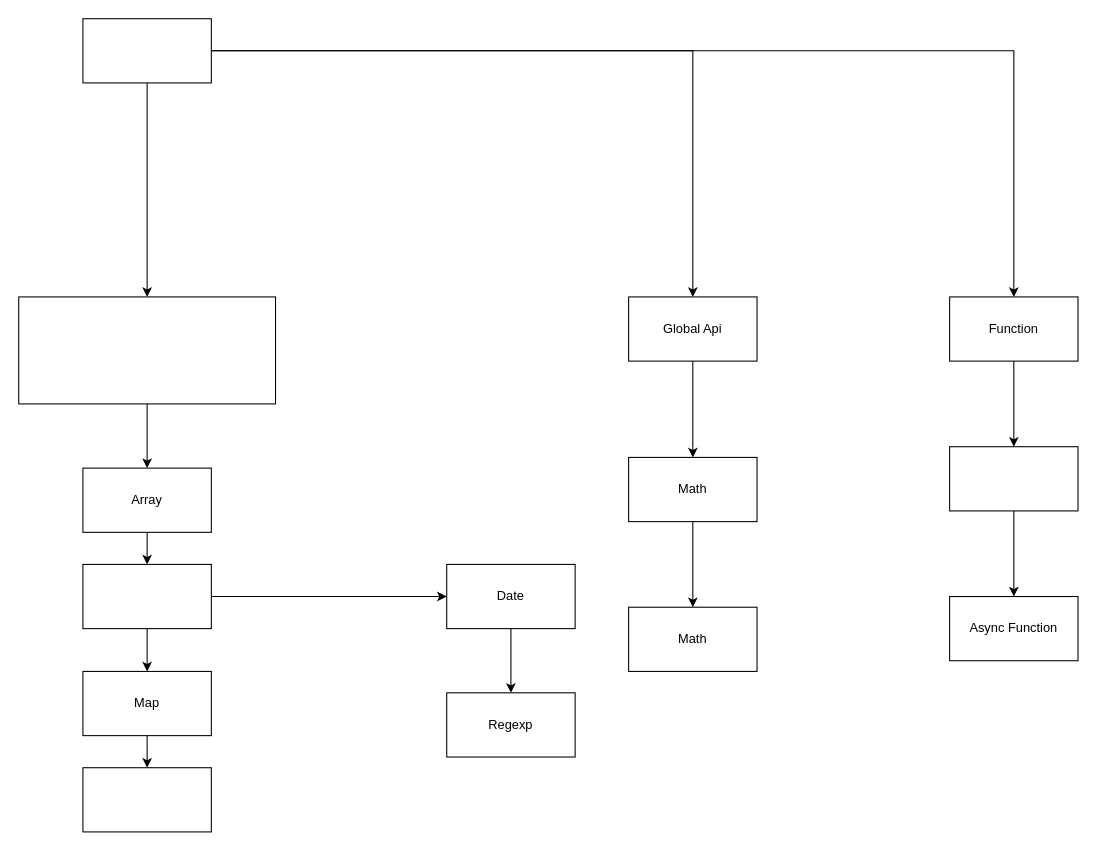
The diagram is 1097 pixels wide and 851 high, and some of its shapes have lost their labels. The shapes that lost their labels are listed below. From the top down, each one's centre as x and y in pixels, then its label:
At point 146,50: "ES".
At point 147,350: "data structure".
At point 1013,478: "Generator".
At point 146,596: "Object".
At point 146,799: "Set".
